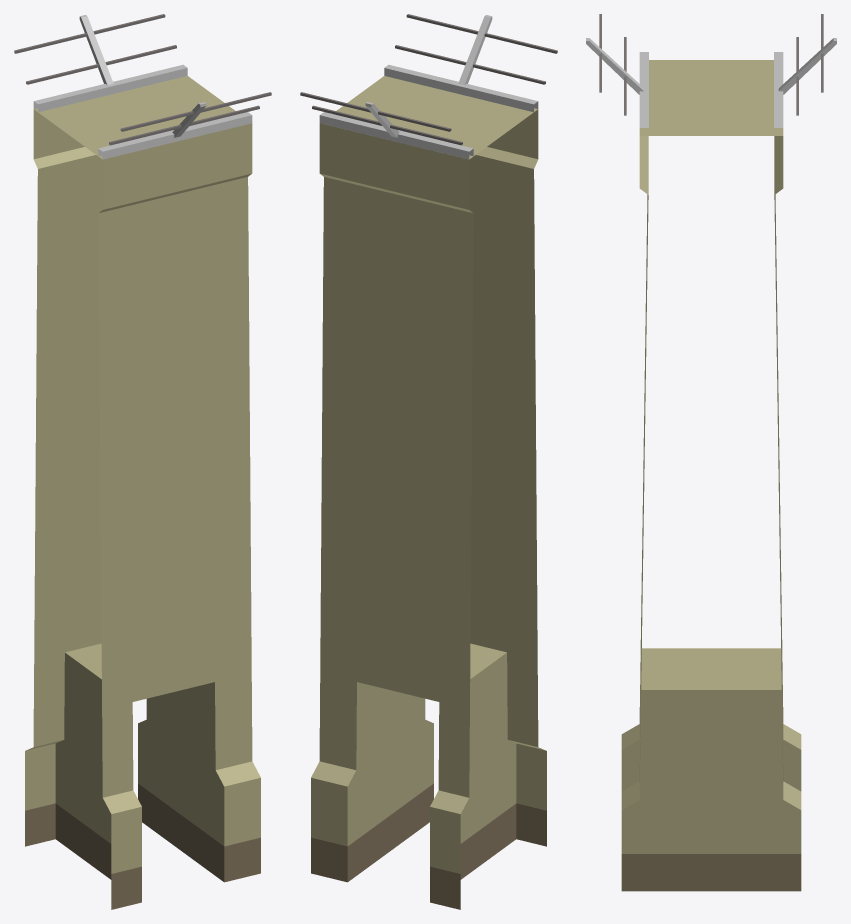
File: SM_Wall_Big_Door_B_200.FBX
The picture shows the model from 3 angles, left to right: view 1: azimuth 30°, elevation 25°; view 2: azimuth 150°, elevation 25°; view 3: azimuth 270°, elevation 25°; orthographic projection. The views are drawn at different scales.
Parts seen in each view (by area): view 1: SM_Wall_Big_Door_B_200; view 2: SM_Wall_Big_Door_B_200; view 3: SM_Wall_Big_Door_B_200.
Part boxes in pixels (x1,y1,x2,y2): SM_Wall_Big_Door_B_200: (14,14,271,909); SM_Wall_Big_Door_B_200: (300,14,557,909); SM_Wall_Big_Door_B_200: (586,14,836,891).
Bounding box in the file's own units: 200 × 279 × 1022.
